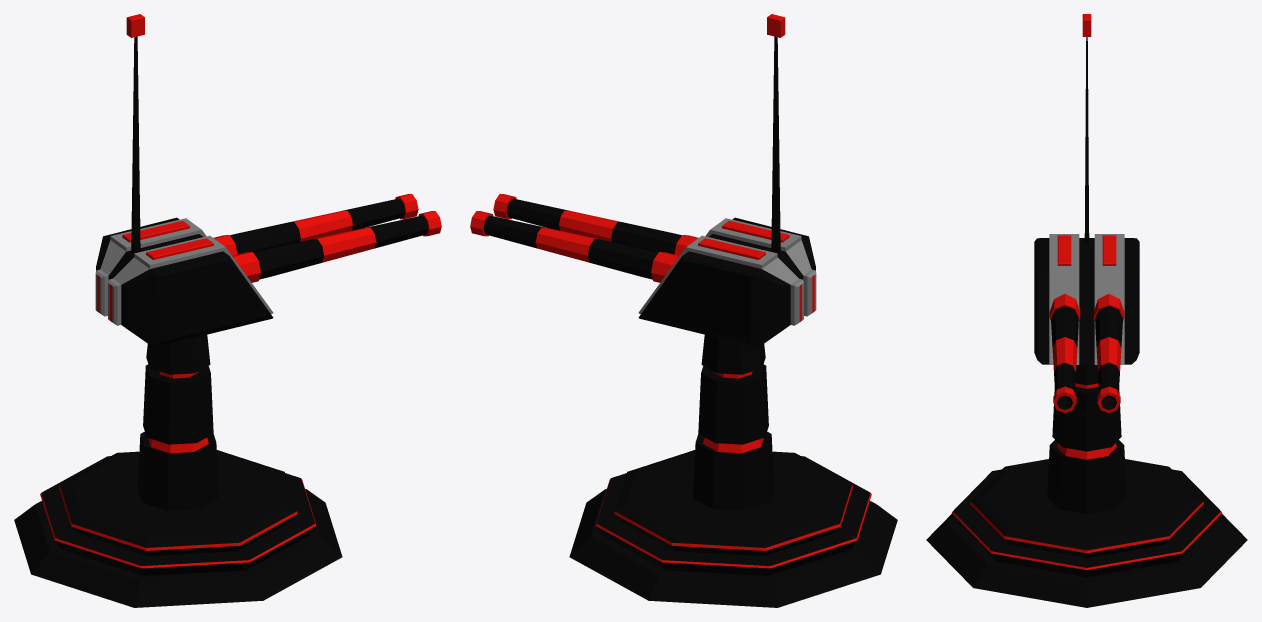
Rendered from Turret.fbx.
3 renders of one model, left to right at view 1: azimuth 30°, elevation 25°; view 2: azimuth 150°, elevation 25°; view 3: azimuth 270°, elevation 25°, orthographic. The views are drawn at different scales.
Parts seen in each view (by area): view 1: Circle, Cube; view 2: Circle, Cube; view 3: Circle, Cube.
Boxes of the visible parts, bbox=[...] form: Circle: bbox=[14, 334, 342, 607]; Cube: bbox=[95, 14, 441, 347]; Circle: bbox=[569, 334, 897, 607]; Cube: bbox=[470, 14, 816, 347]; Circle: bbox=[926, 364, 1247, 607]; Cube: bbox=[1034, 14, 1139, 412].
Size of the model in its own units: 356 by 461 by 267.
